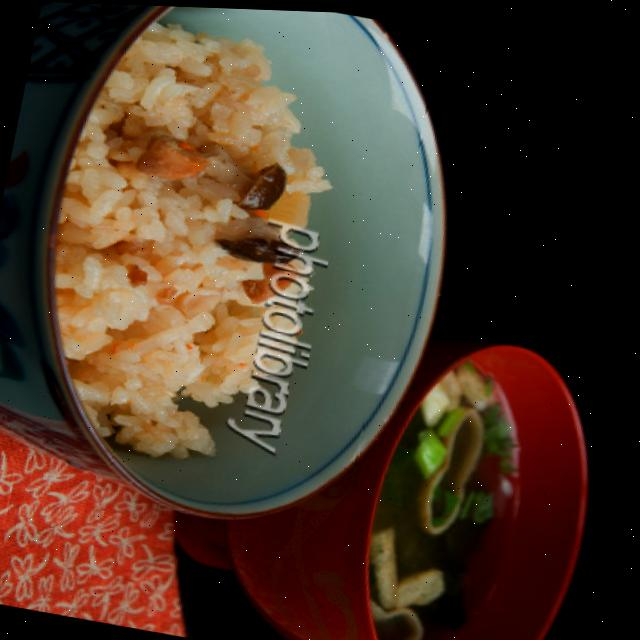米饭主食: (0, 0, 519, 564)
